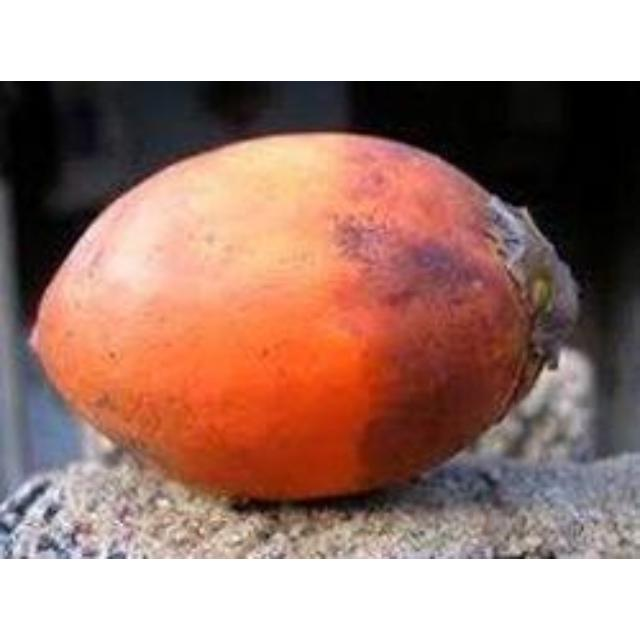good: (28, 132, 581, 506)
